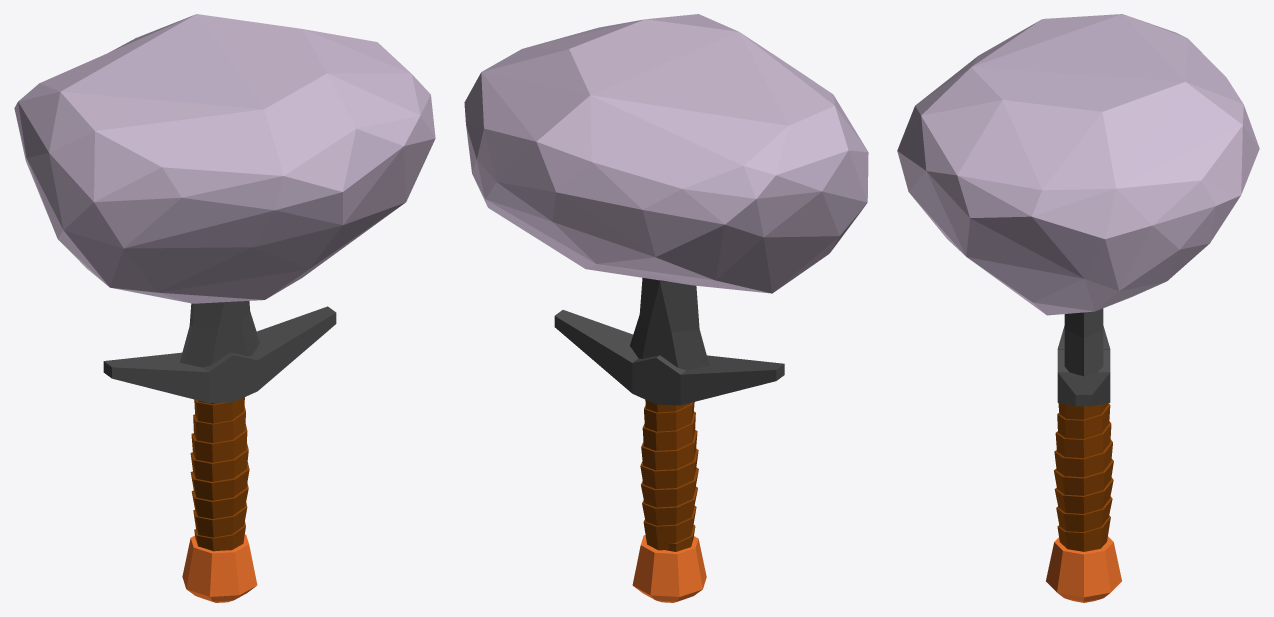
The model's file is Excalibur.fbx.
The picture shows the model from 3 angles, left to right: view 1: azimuth 30°, elevation 25°; view 2: azimuth 150°, elevation 25°; view 3: azimuth 270°, elevation 25°; orthographic projection.
Parts seen in each view (by area): view 1: Cube.004, Cube.002; view 2: Cube.004, Cube.002; view 3: Cube.004, Cube.002.
Part boxes in pixels (box(x1,y1,x2,y2)): Cube.004: box(14, 14, 435, 303); Cube.002: box(103, 301, 336, 602); Cube.004: box(464, 14, 868, 293); Cube.002: box(554, 278, 784, 602); Cube.004: box(897, 14, 1259, 315); Cube.002: box(1046, 308, 1121, 602).
Size of the model in its own units: 37.26 by 51.32 by 31.75.
